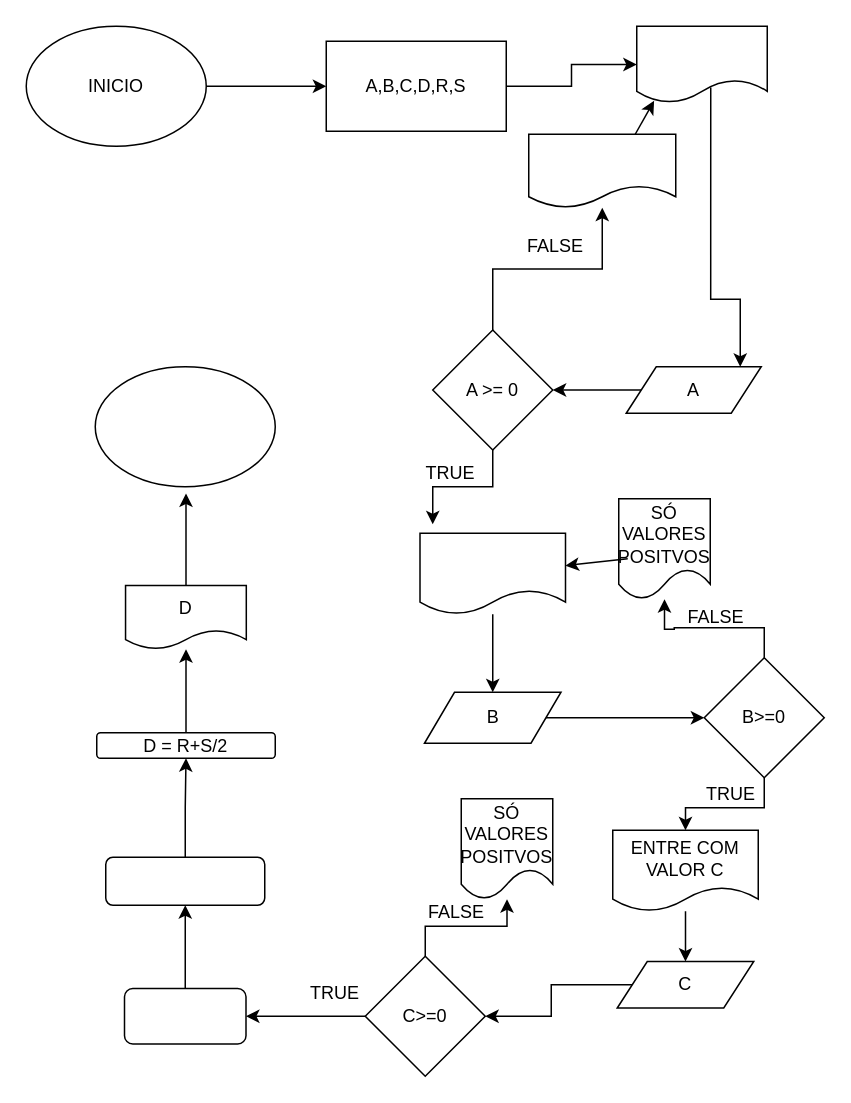
The diagram is 851 pixels wide and 1103 high, and some of its shapes have lost their labels. Each missing label, with the centre of its shape:
ENTRE COM VALOR B: the point at 492,573
ENTRE COM VALOR DE A:: the point at 701,64
FIM: the point at 184,426
R= (A + B)^2: the point at 184,1015
S= (B+C)^2: the point at 184,880
SÓ É ACEITO VALOR POSITIVO: the point at 601,170
